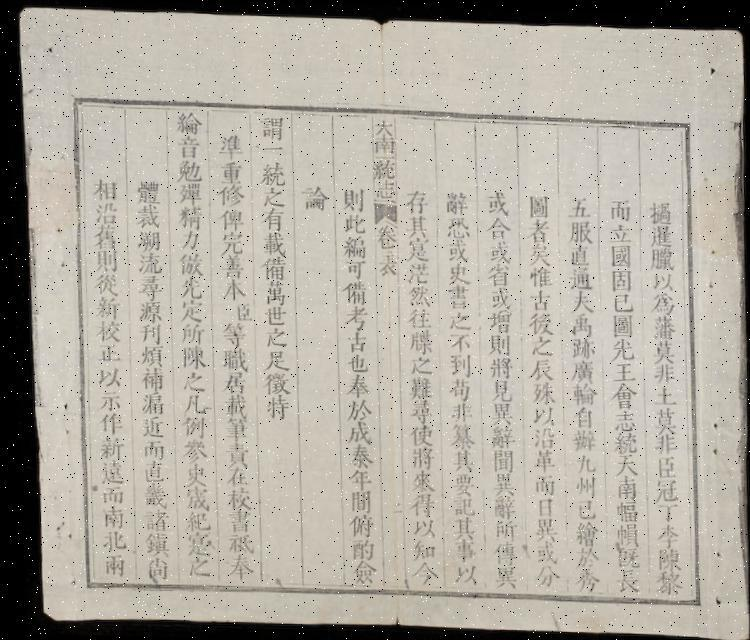c: (254, 112, 286, 140), (296, 182, 327, 210), (646, 404, 676, 432), (255, 158, 285, 186), (605, 380, 635, 408), (218, 553, 250, 579), (647, 568, 679, 594), (216, 439, 246, 466), (178, 530, 209, 556), (213, 132, 244, 158), (132, 274, 162, 300), (648, 544, 678, 570), (646, 476, 676, 502), (92, 434, 122, 460), (256, 254, 286, 280), (135, 507, 166, 532), (216, 346, 247, 371), (171, 109, 202, 134), (216, 416, 248, 440), (136, 482, 165, 508), (481, 214, 510, 240), (217, 320, 246, 346), (481, 188, 510, 214), (442, 421, 471, 447), (131, 178, 160, 204), (136, 531, 166, 556), (131, 204, 161, 229), (648, 520, 678, 545), (92, 459, 122, 484), (566, 519, 596, 544), (606, 566, 637, 590), (88, 294, 119, 318), (89, 318, 120, 342), (522, 216, 550, 242), (338, 278, 366, 304), (344, 558, 372, 584), (563, 217, 592, 242), (608, 520, 638, 544), (87, 176, 117, 200), (484, 540, 514, 564), (564, 358, 594, 382), (172, 158, 202, 182), (443, 514, 473, 538), (88, 272, 118, 296), (88, 224, 118, 248), (88, 248, 118, 272), (88, 200, 118, 224), (644, 245, 674, 269), (213, 182, 243, 206), (216, 370, 246, 394), (258, 370, 288, 394), (217, 485, 248, 508), (218, 531, 250, 553), (178, 462, 206, 487), (94, 552, 122, 577), (441, 283, 469, 308), (402, 327, 430, 352), (440, 188, 468, 213), (400, 187, 428, 212), (134, 366, 162, 391), (485, 564, 514, 588), (173, 204, 202, 228), (173, 250, 202, 274), (402, 374, 431, 398), (482, 308, 511, 332), (646, 338, 675, 362), (219, 508, 248, 532), (644, 222, 673, 246), (172, 134, 201, 158), (217, 393, 246, 417), (403, 444, 432, 468), (442, 351, 471, 375), (444, 537, 474, 560), (177, 509, 207, 532), (564, 427, 594, 450), (526, 562, 556, 585), (338, 184, 364, 210), (258, 279, 285, 304), (216, 230, 244, 254), (400, 213, 428, 237), (404, 490, 432, 514), (402, 397, 430, 421), (216, 254, 244, 278), (644, 198, 672, 222), (482, 262, 510, 286), (176, 344, 204, 368), (608, 474, 636, 498), (94, 504, 122, 528), (134, 390, 162, 414), (138, 556, 166, 580), (444, 470, 472, 494), (526, 516, 554, 540), (338, 304, 366, 328), (562, 193, 590, 217), (176, 438, 204, 462), (174, 298, 202, 322), (340, 372, 368, 396), (256, 206, 284, 230), (178, 486, 206, 510), (259, 394, 287, 418), (258, 230, 286, 254), (338, 234, 366, 258), (646, 314, 674, 338), (215, 207, 244, 230), (443, 447, 472, 470), (567, 567, 596, 590), (92, 411, 121, 434), (565, 381, 594, 404), (404, 559, 433, 582), (340, 396, 369, 419), (403, 467, 432, 490), (401, 260, 430, 283), (604, 194, 630, 219), (342, 442, 368, 467), (483, 354, 510, 378), (342, 512, 369, 536), (604, 242, 632, 265), (215, 160, 243, 183), (524, 311, 552, 334), (484, 471, 512, 494), (605, 336, 633, 359), (402, 283, 430, 306), (440, 214, 468, 237), (563, 265, 591, 288), (216, 278, 245, 300), (607, 498, 636, 520), (606, 408, 635, 430), (402, 422, 431, 444), (482, 240, 511, 262), (645, 290, 674, 312), (342, 536, 371, 558), (173, 182, 202, 204), (646, 431, 676, 452), (606, 312, 632, 336), (340, 328, 366, 352), (648, 453, 675, 476), (484, 401, 511, 424), (605, 267, 632, 290), (442, 376, 469, 399), (482, 332, 510, 354), (606, 430, 634, 452), (607, 452, 635, 474), (443, 399, 471, 421), (134, 416, 162, 438), (524, 356, 552, 378), (564, 289, 592, 311), (523, 264, 551, 286), (565, 336, 593, 358), (218, 464, 246, 486), (94, 529, 122, 551), (608, 544, 636, 566), (404, 537, 432, 559), (485, 494, 513, 516), (92, 389, 120, 411), (486, 516, 514, 538), (258, 348, 286, 370), (132, 228, 160, 250), (132, 252, 160, 274), (90, 365, 118, 387), (340, 420, 368, 442), (132, 300, 160, 322), (176, 414, 204, 436), (134, 344, 162, 366), (484, 424, 512, 446), (526, 424, 554, 446), (605, 360, 634, 381), (445, 562, 474, 583), (404, 515, 433, 536), (369, 156, 394, 180), (178, 556, 208, 576), (566, 312, 592, 335), (136, 459, 162, 482), (176, 369, 202, 392), (485, 448, 512, 470), (175, 322, 202, 344), (442, 261, 469, 283), (525, 380, 552, 402), (342, 488, 369, 510), (484, 378, 511, 400), (483, 286, 510, 308), (174, 276, 201, 298), (524, 334, 551, 356), (133, 322, 161, 343), (90, 342, 118, 363), (566, 545, 594, 566), (134, 438, 162, 459), (402, 306, 430, 327), (646, 362, 675, 382), (524, 192, 548, 216), (402, 237, 428, 259), (526, 472, 552, 494), (564, 242, 590, 264), (174, 228, 200, 250), (568, 473, 594, 495), (528, 540, 554, 562), (339, 212, 365, 234), (524, 242, 550, 264), (566, 405, 592, 427), (442, 238, 468, 260), (524, 288, 550, 310), (526, 448, 552, 470), (567, 452, 594, 473), (342, 466, 370, 486), (646, 270, 674, 290), (444, 494, 472, 514), (94, 484, 122, 504), (647, 384, 675, 404), (569, 496, 594, 518), (258, 326, 284, 347), (177, 392, 203, 413), (442, 330, 468, 351), (404, 353, 431, 373), (525, 404, 552, 424), (604, 221, 631, 241), (338, 258, 364, 278), (442, 309, 468, 329), (257, 186, 283, 206), (649, 500, 676, 519), (252, 140, 284, 156), (260, 304, 284, 325), (371, 180, 396, 200), (342, 352, 366, 372), (608, 291, 632, 311), (528, 494, 552, 514), (228, 301, 250, 320), (370, 136, 393, 154), (371, 118, 392, 136), (373, 220, 396, 236), (374, 260, 396, 276), (372, 234, 396, 248), (376, 248, 394, 260)
